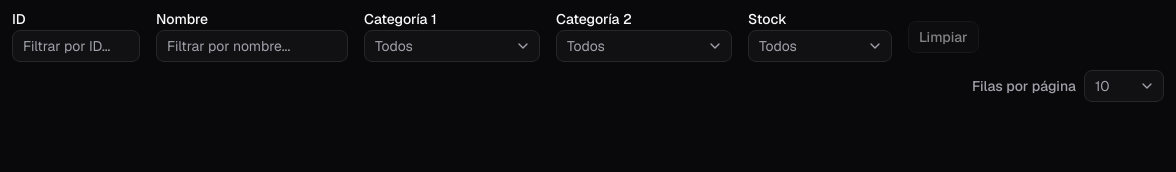
InventoryFilters — both text inputs are controlled › keeps Limpiar reachable while a debounce is pending, so it can cancel it
This screenshot has width=1176, height=172.
Type "bater" into the field labelled "Nombre" at (252, 46), box [156,30,348,62]
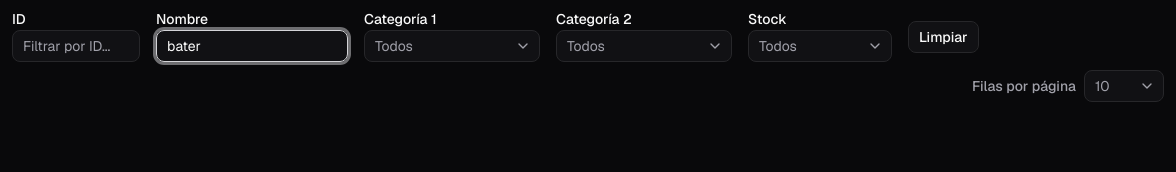
Click the button "Limpiar" at (943, 37), box [908,21,979,53]
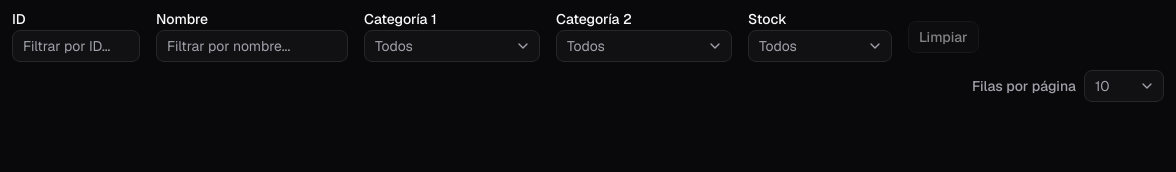
Result: the field labelled "Nombre" is empty at [156,30,348,62]
